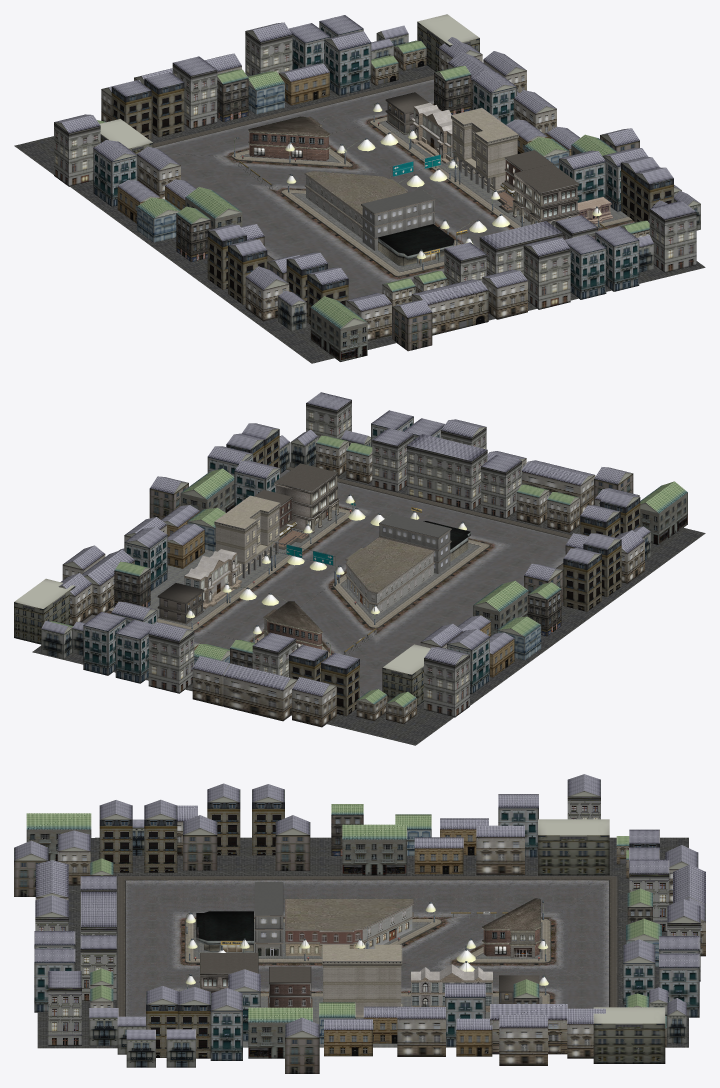
Rendered from city.FBX.
3 renders of one model, top to bottom at view 1: azimuth 30°, elevation 25°; view 2: azimuth 150°, elevation 25°; view 3: azimuth 270°, elevation 25°, orthographic. The views are drawn at different scales.
Parts seen in each view (by area): view 1: side buildings, road, ground04, street floor, penhot, curved building, corner building, short, base, hotel, mini store, building long (+3 smaller); view 2: side buildings, road, ground04, street floor, curved building, penhot, base, short, building long, hotel, corner building, light beam (+3 smaller); view 3: side buildings, road, ground04, curved building, penhot, street floor, corner building, base, mini store, short, building long, cafe resto (+2 smaller).
Boxes of the visible parts, bbox=[...] form: side buildings: bbox=[54, 14, 700, 361]; road: bbox=[154, 79, 634, 299]; ground04: bbox=[14, 65, 705, 363]; street floor: bbox=[231, 116, 632, 276]; penhot: bbox=[451, 108, 518, 192]; curved building: bbox=[304, 171, 407, 238]; corner building: bbox=[248, 116, 330, 160]; short: bbox=[361, 189, 435, 250]; base: bbox=[385, 92, 578, 219]; hotel: bbox=[512, 173, 579, 227]; mini store: bbox=[378, 224, 467, 266]; building long: bbox=[411, 102, 458, 164]; side buildings: bbox=[14, 392, 687, 727]; road: bbox=[82, 470, 569, 697]; ground04: bbox=[32, 462, 705, 745]; street floor: bbox=[108, 506, 490, 657]; curved building: bbox=[345, 537, 434, 615]; penhot: bbox=[214, 495, 280, 578]; base: bbox=[157, 463, 337, 624]; short: bbox=[379, 514, 451, 573]; building long: bbox=[184, 549, 241, 609]; hotel: bbox=[274, 473, 339, 533]; corner building: bbox=[263, 601, 322, 649]; light beam: bbox=[186, 495, 466, 634]; side buildings: bbox=[14, 774, 705, 1073]; road: bbox=[125, 880, 608, 1016]; ground04: bbox=[37, 837, 688, 1048]; curved building: bbox=[285, 899, 413, 957]; penhot: bbox=[322, 944, 402, 1017]; street floor: bbox=[185, 918, 550, 1047]; corner building: bbox=[482, 898, 540, 957]; base: bbox=[200, 953, 539, 1007]; mini store: bbox=[195, 911, 253, 956]; short: bbox=[254, 882, 283, 956]; building long: bbox=[411, 964, 492, 1011]; cafe resto: bbox=[269, 982, 311, 1007].
Bounding box in the file's own units: 171 × 22.29 × 212.
